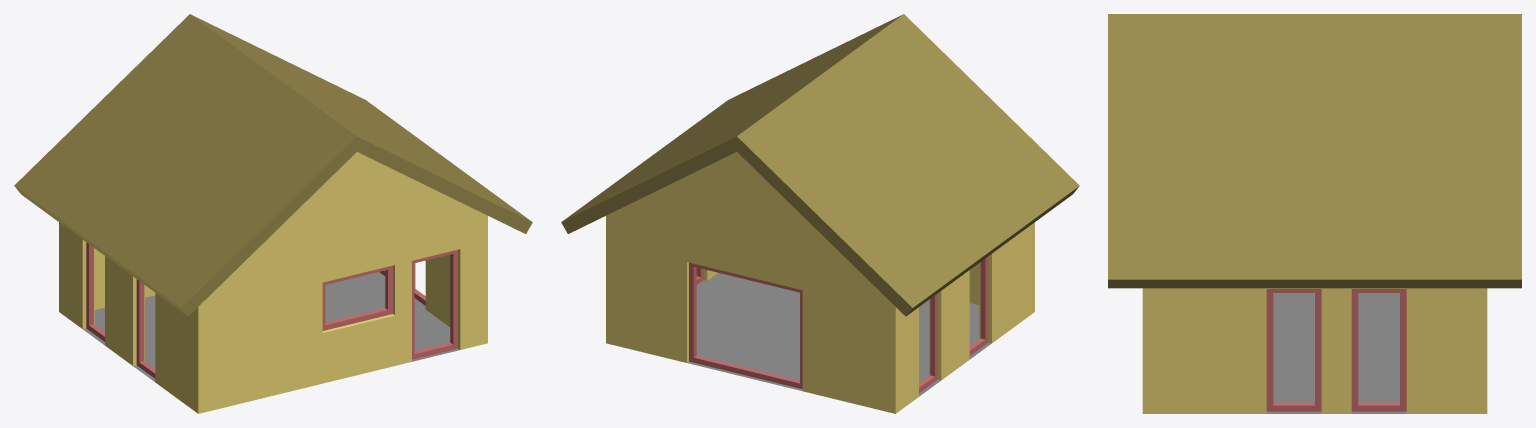
File: result.glb
The picture shows the model from 3 angles, left to right: view 1: azimuth 30°, elevation 25°; view 2: azimuth 150°, elevation 25°; view 3: azimuth 270°, elevation 25°; orthographic projection. The views are drawn at different scales.
Parts seen in each view (by area): view 1: 3be5f70d-03b5-4acf-b708-1b3d1b58cab2__undefined (×2), 722c102c-f7de-4a4d-af7c-d1fcae6b4d31__undefined, 62658970-e2d0-4d0c-8929-5a51a5f5bfa4__Plane_8, 277f126c-94f0-4acb-ac3e-2f872b2d6e38__Box, 2948674a-88bb-4582-96d9-41a5bacb9ce0__Box_3, 83a0e869-effc-41c7-96af-87f42bf57c4c__Box_12, 2c0b6843-9d66-458f-b2ad-91c917623279__Box_15; view 2: 3be5f70d-03b5-4acf-b708-1b3d1b58cab2__undefined (×2), 722c102c-f7de-4a4d-af7c-d1fcae6b4d31__undefined, 62658970-e2d0-4d0c-8929-5a51a5f5bfa4__Plane_8, 6471ad0a-17fc-4a06-9e4f-0c49286e7959__Box_9, 83a0e869-effc-41c7-96af-87f42bf57c4c__Box_12, 2c0b6843-9d66-458f-b2ad-91c917623279__Box_15; view 3: 3be5f70d-03b5-4acf-b708-1b3d1b58cab2__undefined, 722c102c-f7de-4a4d-af7c-d1fcae6b4d31__undefined, 62658970-e2d0-4d0c-8929-5a51a5f5bfa4__Plane_8, 57333a00-6f52-4e8c-a2ac-95961365a7d5__Box_18, 47f8ecbf-173b-47be-99eb-c835a85dcc83__Box_21.
Boxes of the visible parts, box(x1,y1,x2,y2) form: 3be5f70d-03b5-4acf-b708-1b3d1b58cab2__undefined (×2): box(14, 14, 532, 316); 722c102c-f7de-4a4d-af7c-d1fcae6b4d31__undefined: box(59, 152, 487, 413); 62658970-e2d0-4d0c-8929-5a51a5f5bfa4__Plane_8: box(83, 272, 459, 381); 277f126c-94f0-4acb-ac3e-2f872b2d6e38__Box: box(412, 249, 457, 359); 2948674a-88bb-4582-96d9-41a5bacb9ce0__Box_3: box(322, 265, 392, 330); 83a0e869-effc-41c7-96af-87f42bf57c4c__Box_12: box(136, 279, 155, 378); 2c0b6843-9d66-458f-b2ad-91c917623279__Box_15: box(86, 242, 104, 341); 3be5f70d-03b5-4acf-b708-1b3d1b58cab2__undefined (×2): box(561, 14, 1079, 316); 722c102c-f7de-4a4d-af7c-d1fcae6b4d31__undefined: box(606, 152, 1034, 413); 62658970-e2d0-4d0c-8929-5a51a5f5bfa4__Plane_8: box(687, 273, 991, 396); 6471ad0a-17fc-4a06-9e4f-0c49286e7959__Box_9: box(689, 262, 802, 388); 83a0e869-effc-41c7-96af-87f42bf57c4c__Box_12: box(969, 256, 988, 355); 2c0b6843-9d66-458f-b2ad-91c917623279__Box_15: box(919, 293, 937, 392); 3be5f70d-03b5-4acf-b708-1b3d1b58cab2__undefined: box(1108, 14, 1521, 288); 722c102c-f7de-4a4d-af7c-d1fcae6b4d31__undefined: box(1142, 288, 1487, 413); 62658970-e2d0-4d0c-8929-5a51a5f5bfa4__Plane_8: box(1266, 293, 1406, 413); 57333a00-6f52-4e8c-a2ac-95961365a7d5__Box_18: box(1266, 289, 1321, 411); 47f8ecbf-173b-47be-99eb-c835a85dcc83__Box_21: box(1351, 289, 1406, 411).
Size of the model in its own units: 729 by 500 by 600.
